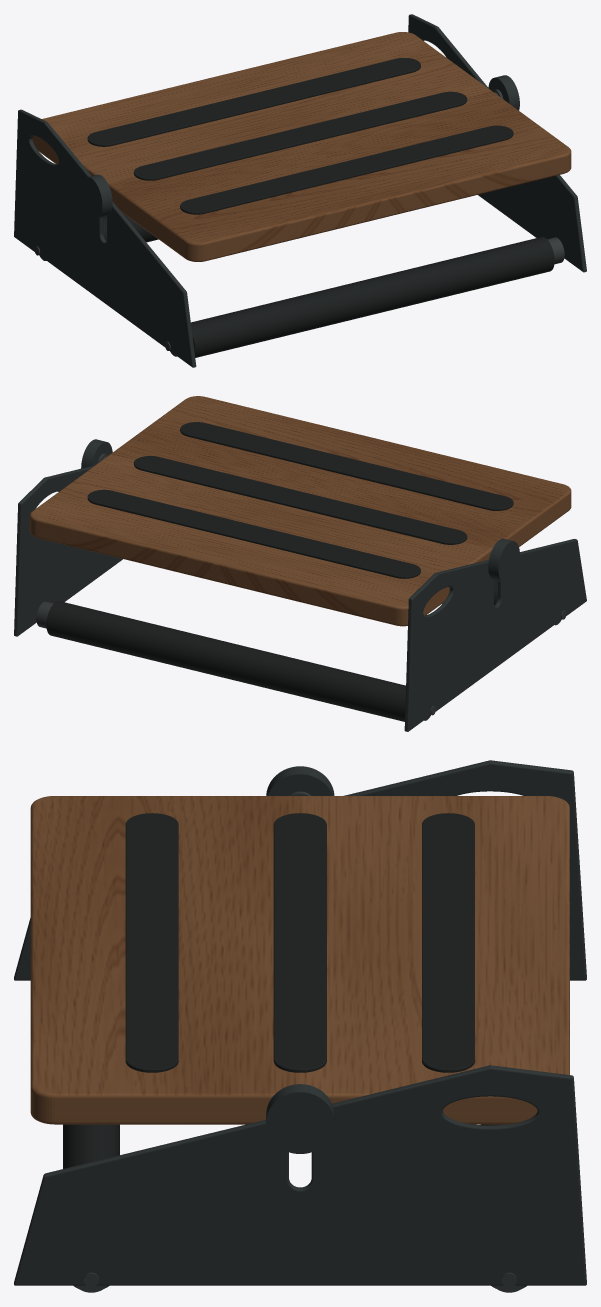
Rendered from footrest-one-component.glb.
3 views of the same model, one above another, from view 1: azimuth 30°, elevation 25°; view 2: azimuth 150°, elevation 25°; view 3: azimuth 270°, elevation 25° (orthographic). The views are drawn at different scales.
Visible parts, largest first — view 1: SUB01_ReferenceFootrest_OneComponent; view 2: SUB01_ReferenceFootrest_OneComponent; view 3: SUB01_ReferenceFootrest_OneComponent.
Boxes of the visible parts, x1=… form: SUB01_ReferenceFootrest_OneComponent: x1=14, y1=14, x2=586, y2=367; SUB01_ReferenceFootrest_OneComponent: x1=14, y1=396, x2=586, y2=731; SUB01_ReferenceFootrest_OneComponent: x1=14, y1=760, x2=586, y2=1292.
Bounding box in the file's own units: 0.406 × 0.138 × 0.3017.
5 materials, 2 textured.
